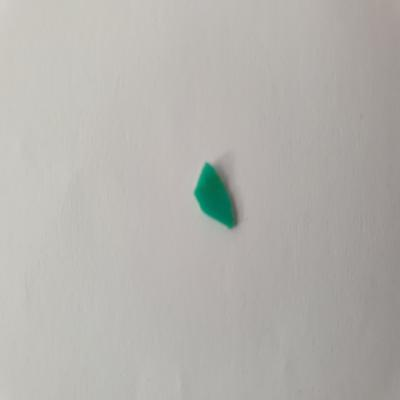plastic: (190, 158, 247, 233)
